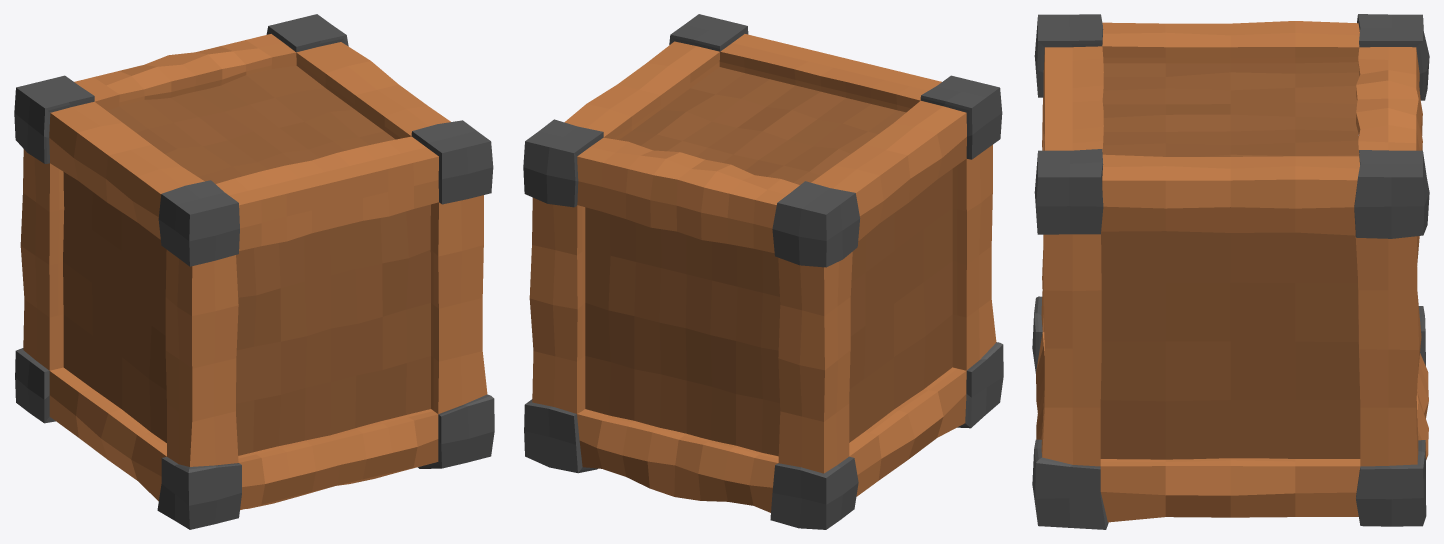
3 renders of one model, left to right at view 1: azimuth 30°, elevation 25°; view 2: azimuth 150°, elevation 25°; view 3: azimuth 270°, elevation 25°, orthographic. The views are drawn at different scales.
Visible parts, largest first — view 1: Cube; view 2: Cube; view 3: Cube.
Boxes of the visible parts, <box> form: Cube: <box>14,14,494,529</box>; Cube: <box>523,14,1003,529</box>; Cube: <box>1032,14,1429,529</box>.
Bounding box in the file's own units: 327 × 336 × 331.
